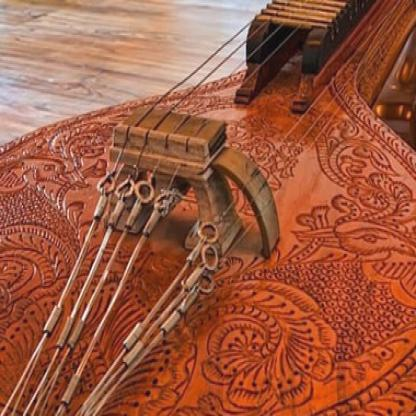Veena: (13, 73, 416, 377)
